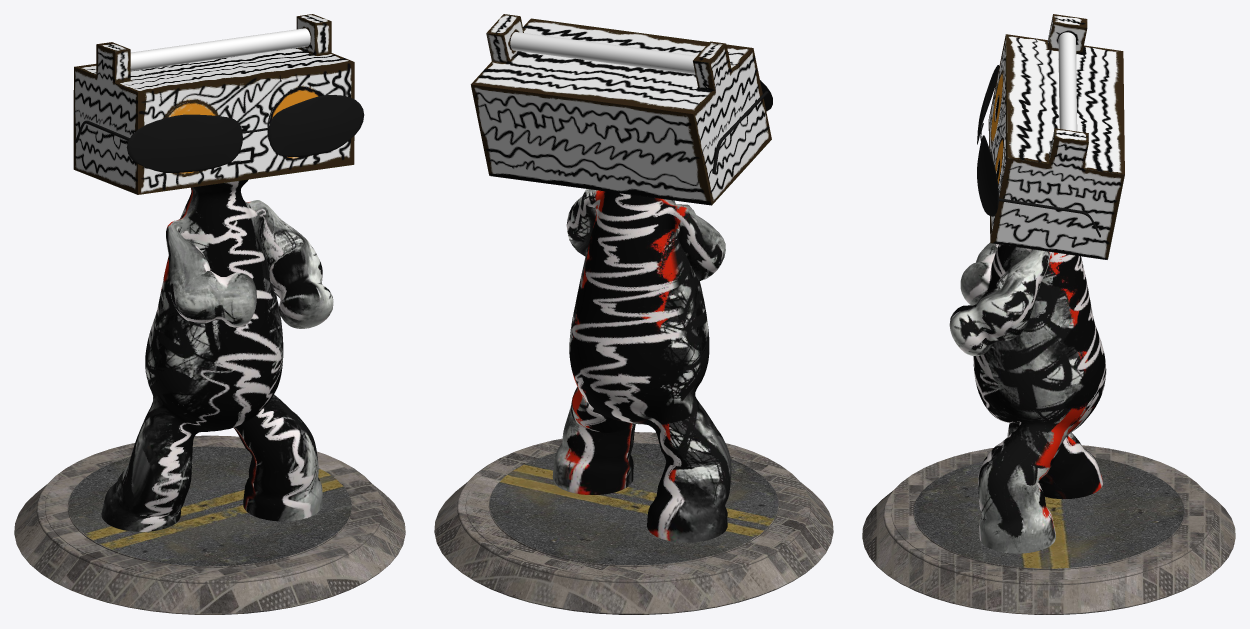
File: 241_sanitized.glb
3 views of the same model, side by side, from view 1: azimuth 30°, elevation 25°; view 2: azimuth 150°, elevation 25°; view 3: azimuth 270°, elevation 25° (orthographic). The views are drawn at different scales.
Parts seen in each view (by area): view 1: BBody; view 2: BBody; view 3: BBody.
Part boxes in pixels (bbox=[...]): BBody: bbox=[14, 14, 405, 614]; BBody: bbox=[434, 14, 833, 614]; BBody: bbox=[862, 14, 1235, 614].
Size of the model in its own units: 1.45 by 2.05 by 1.45.
5 materials, 4 textured.
